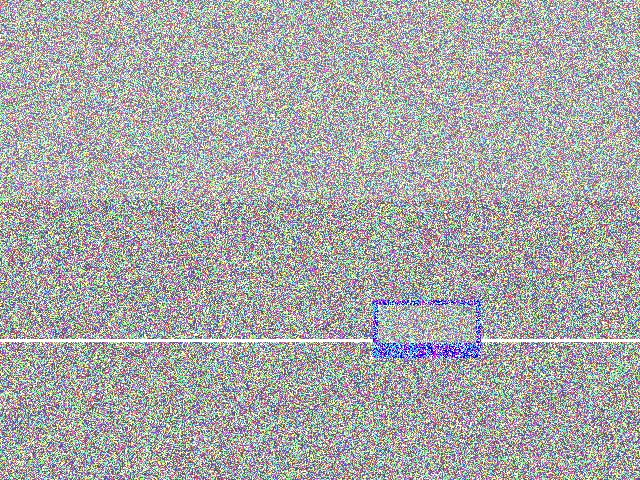bus: (217, 227, 291, 281)
